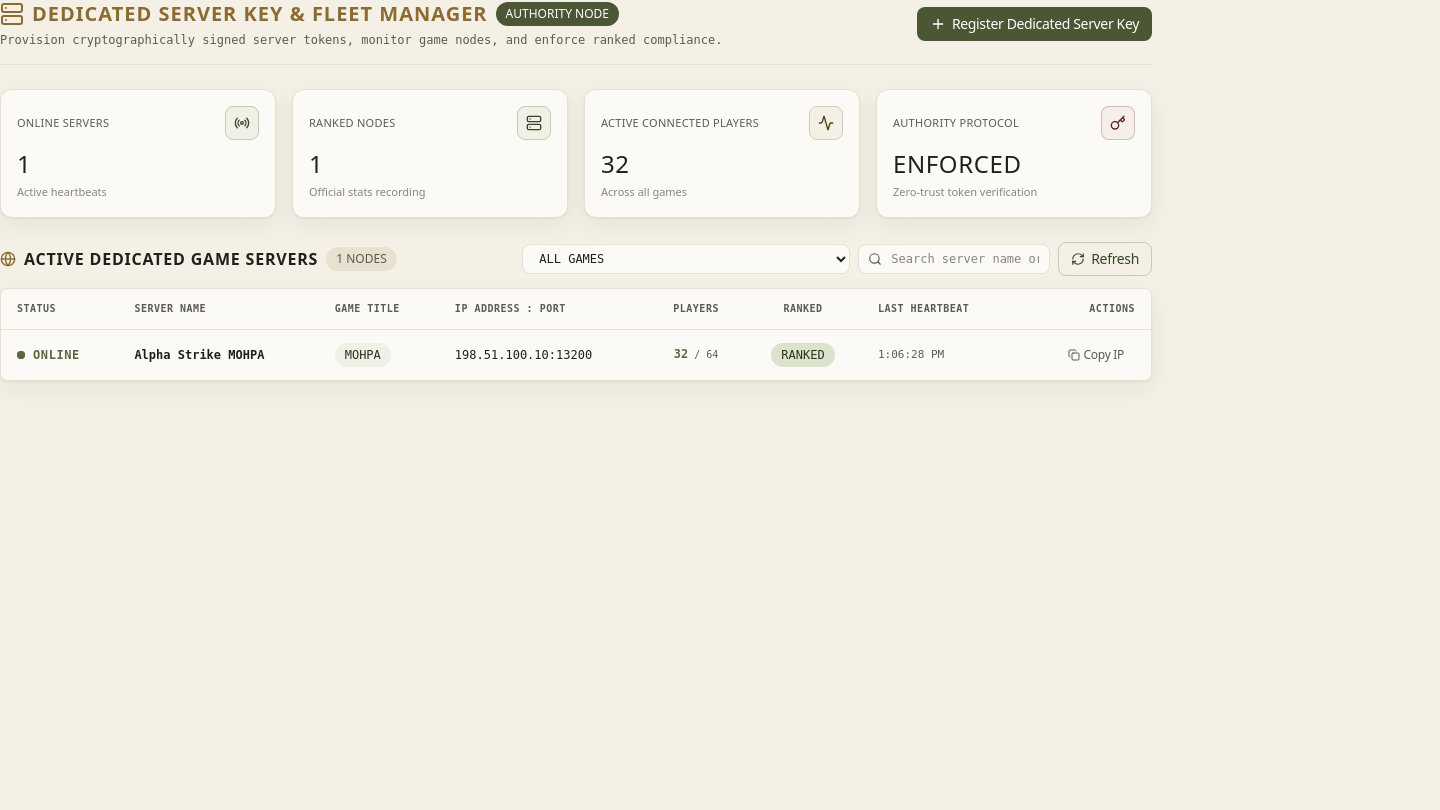
Test: Admin UI Components Tests › renders ServerManager and handles CreateServerKeyModal
The width and height of the screenshot is (1440, 810).
Expected: the heading "DEDICATED SERVER KEY & FLEET MANAGER" is shown, [0,0,488,28]
Expected: the text "Alpha Strike MOHPA" is shown, [118,329,319,380]
Note: Open key modal
Click the button "Register Dedicated Server Key".
click(1034, 24)  # box [917,7,1152,41]
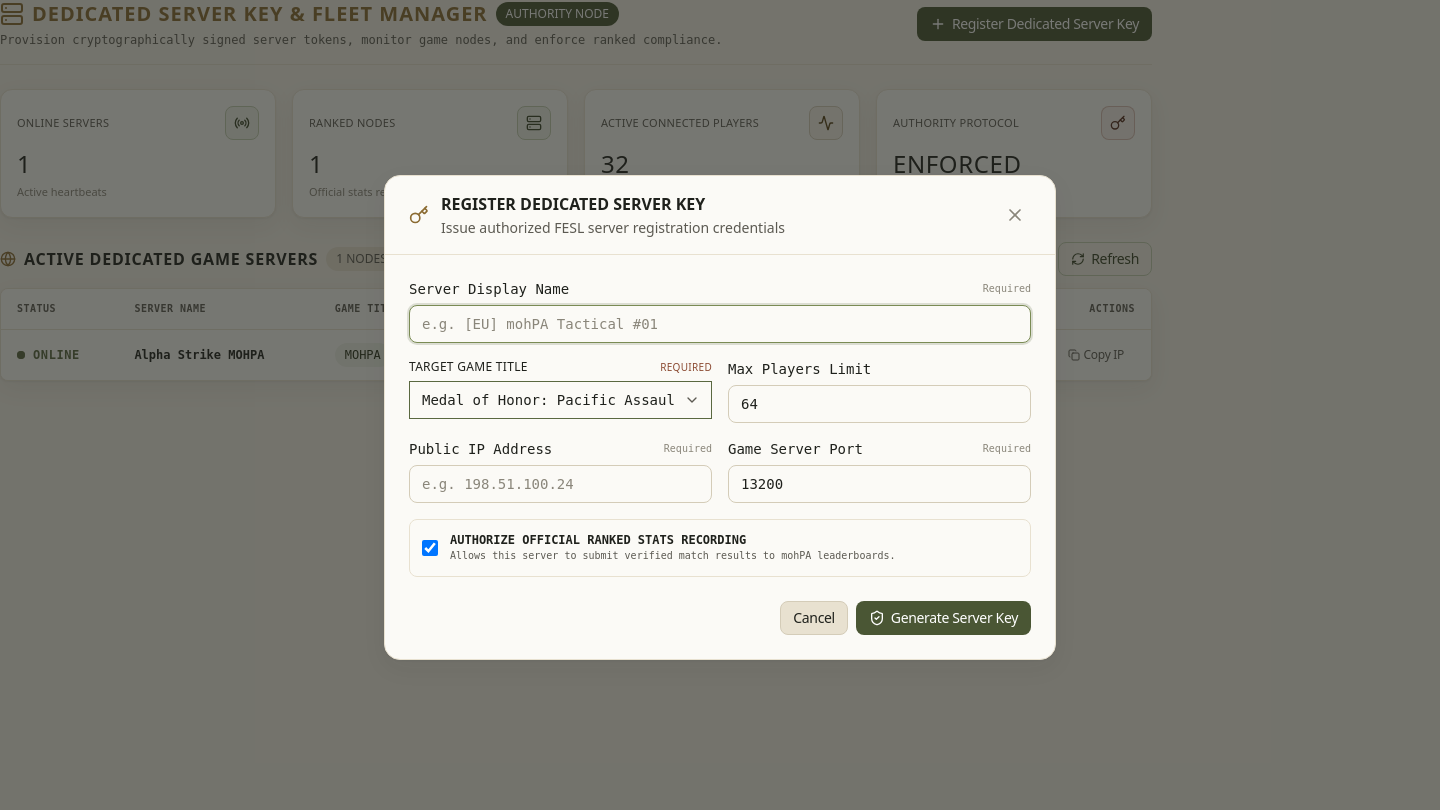
Now the heading "REGISTER DEDICATED SERVER KEY" is shown, box [441,192,705,214]
